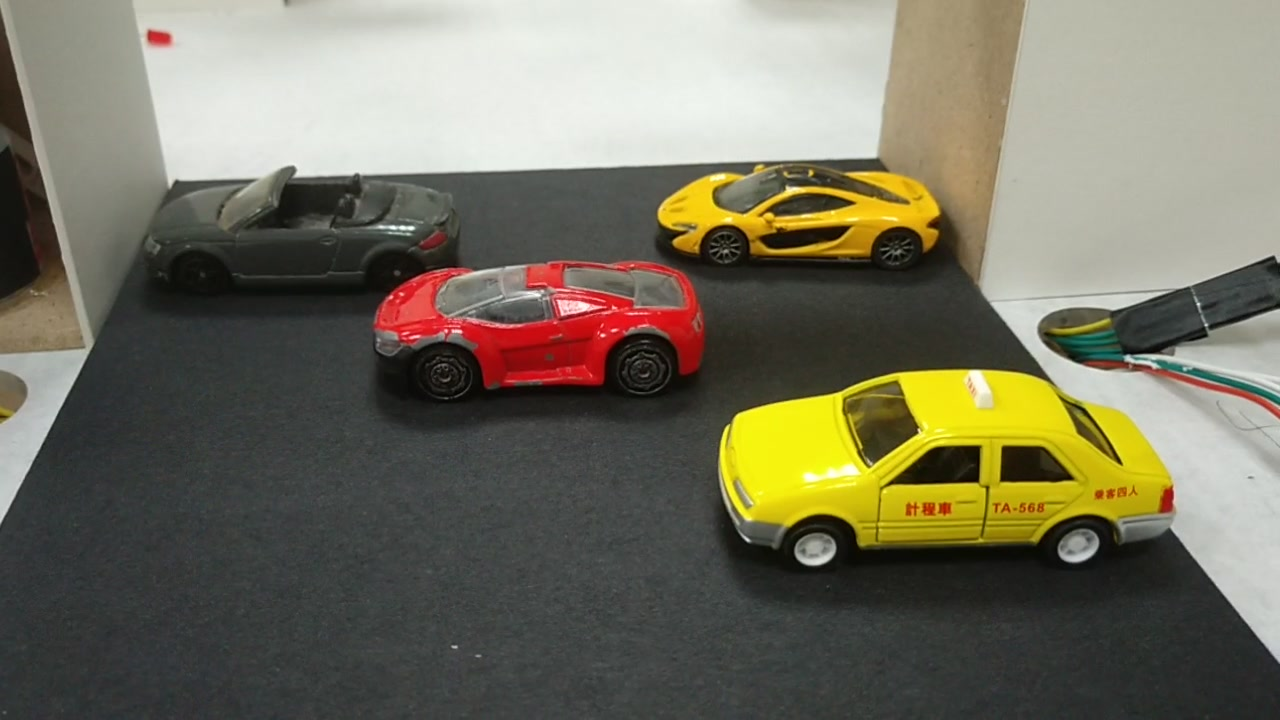car: (714, 386, 1182, 550), (375, 273, 710, 406), (152, 186, 465, 288), (657, 174, 941, 268)
